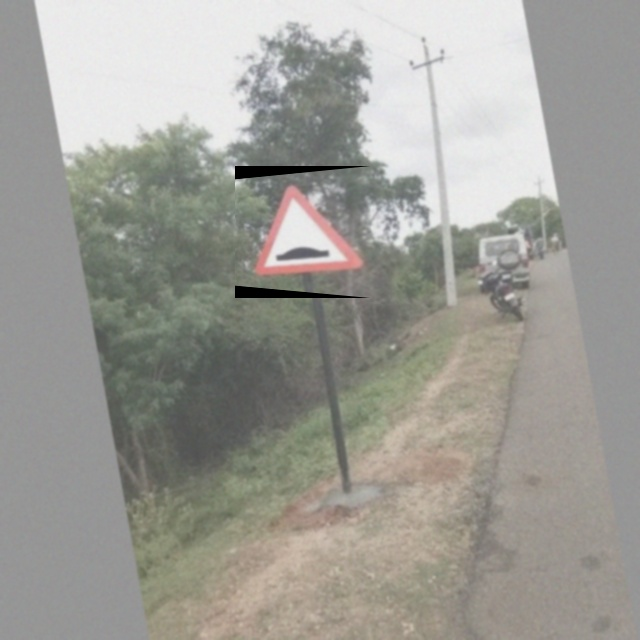Hump_or_Rough_Road: (235, 166, 371, 298)
